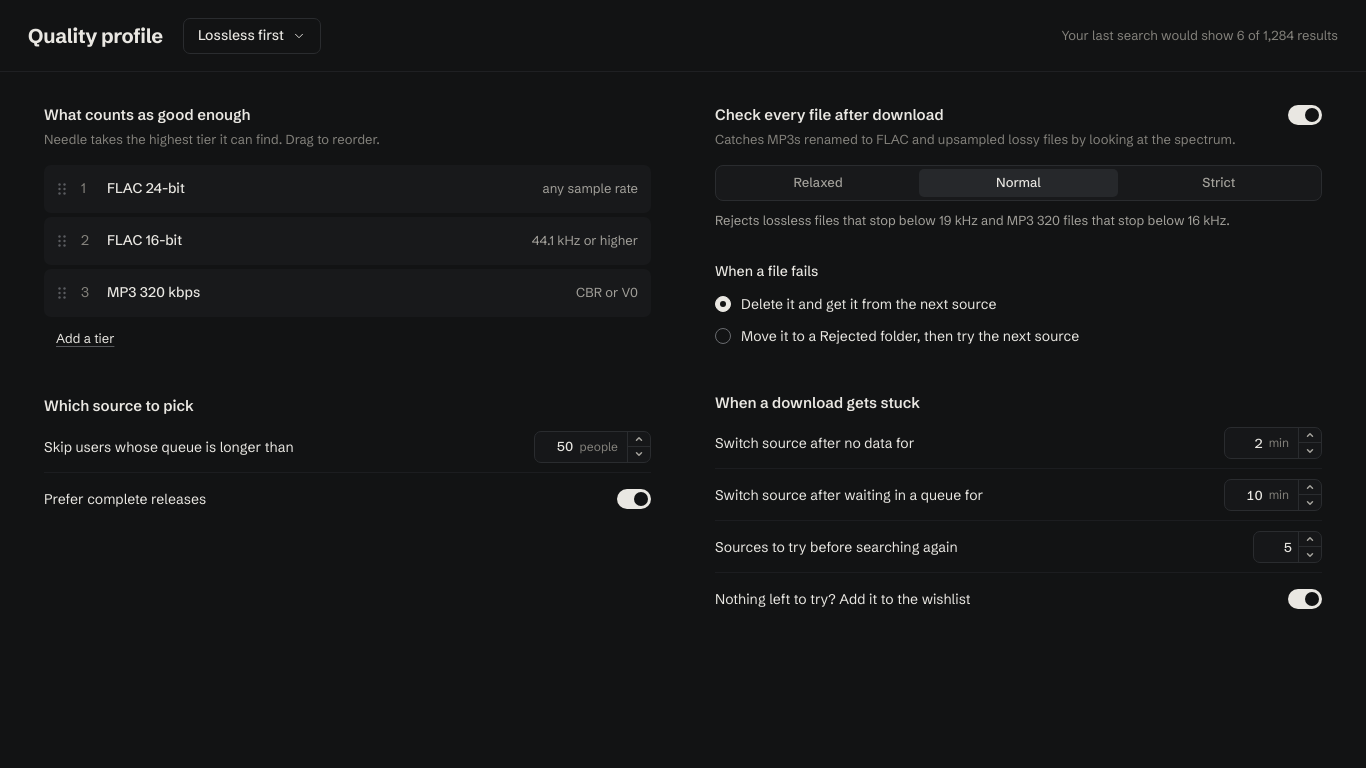
Test: Quality profile › shows the strictness hint for the picked level
Expected: the text "stop below 19 kHz" is shown, [715,212,1230,228]
Click the radio button labelled "Strict" at (1219, 183), box [1120,169,1318,197]
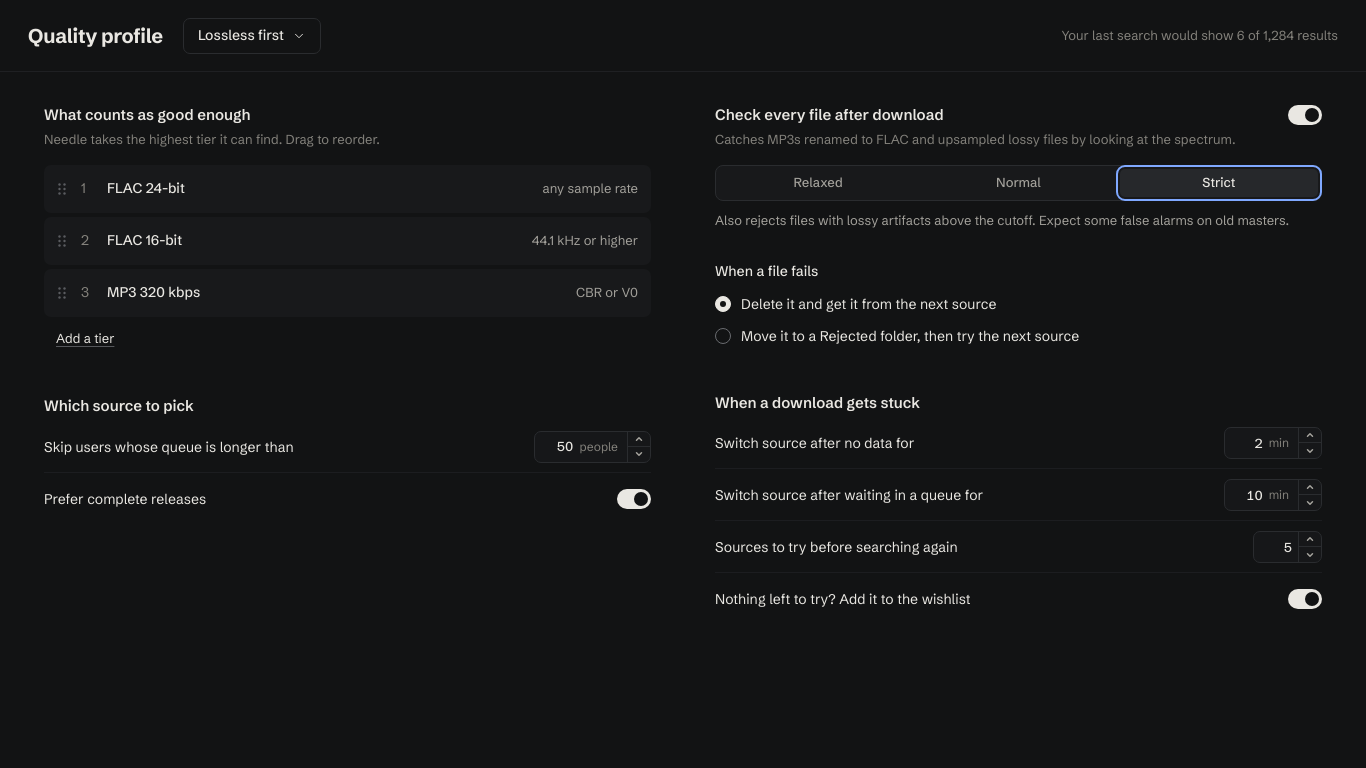
Expected: the text "Expect some false alarms on old masters" is shown, [715,212,1289,228]
Click the radio button labelled "Relaxed" at (818, 183), box [719,169,917,197]
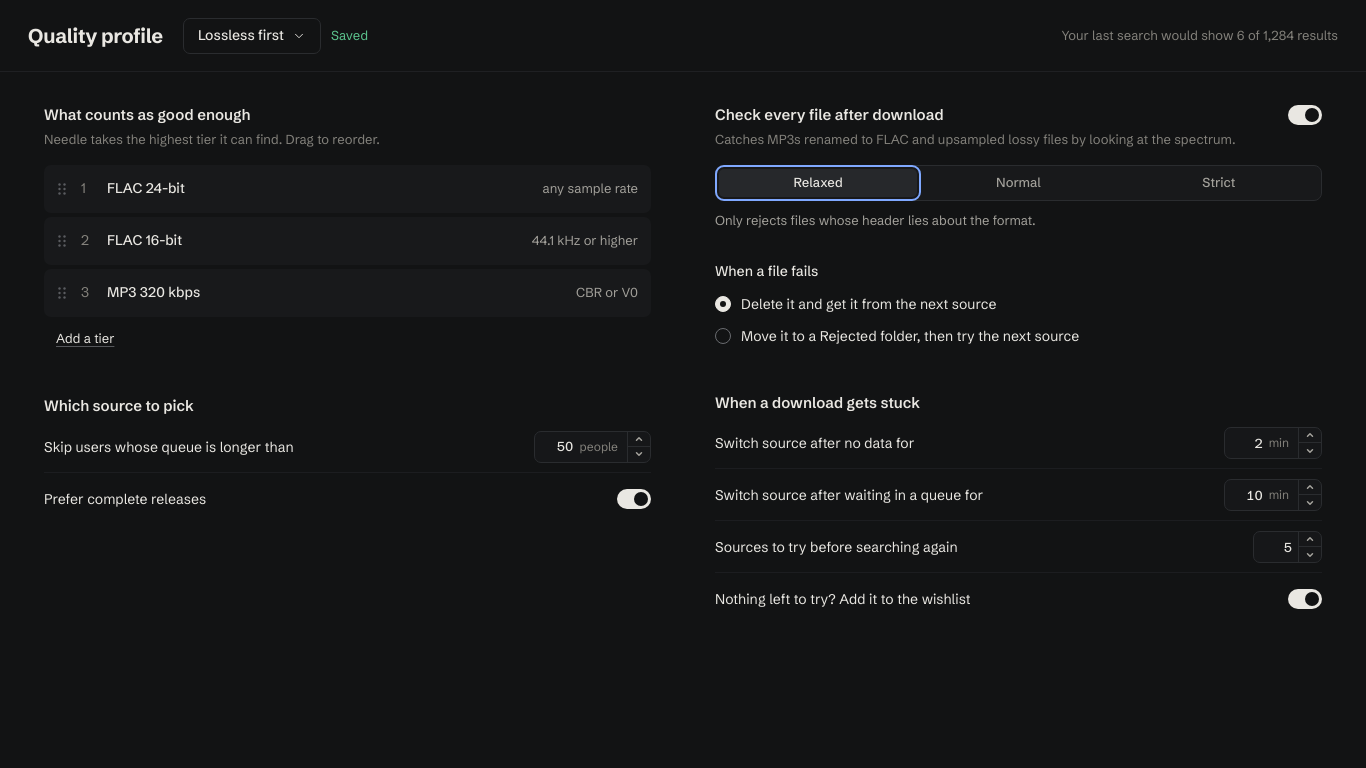
Expected: the text "Only rejects files whose header lies about the format." is shown, [715,212,1036,228]
